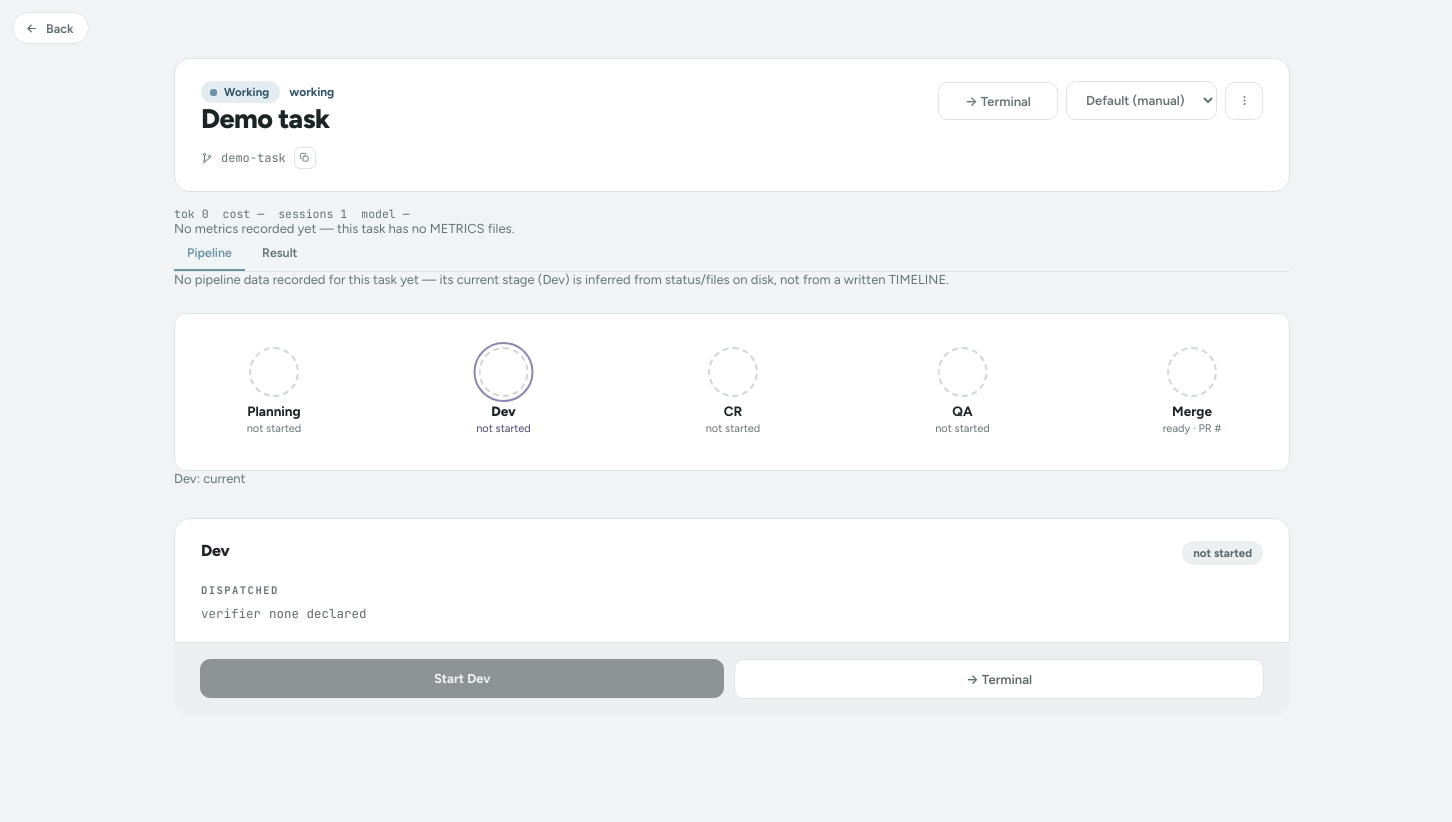
Test: TaskDetail: Result tab › clicking the Result tab switches to it, and Pipeline switches back
Click the tab with test id "task-view-tab-result".
click(280, 253)  # box [249,236,310,271]
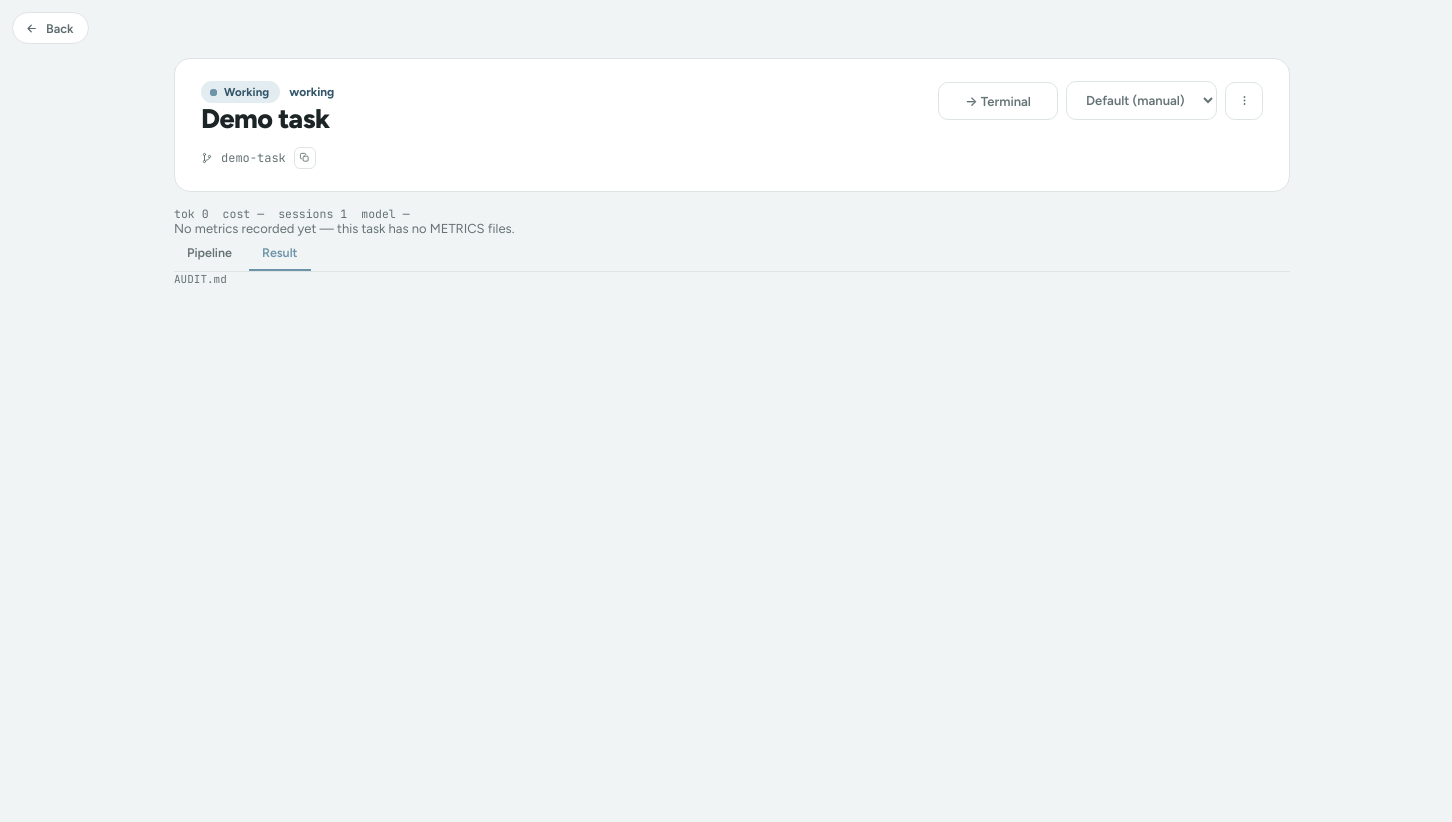
Click the tab with test id "task-view-tab-pipeline".
click(209, 253)  # box [174,236,245,271]
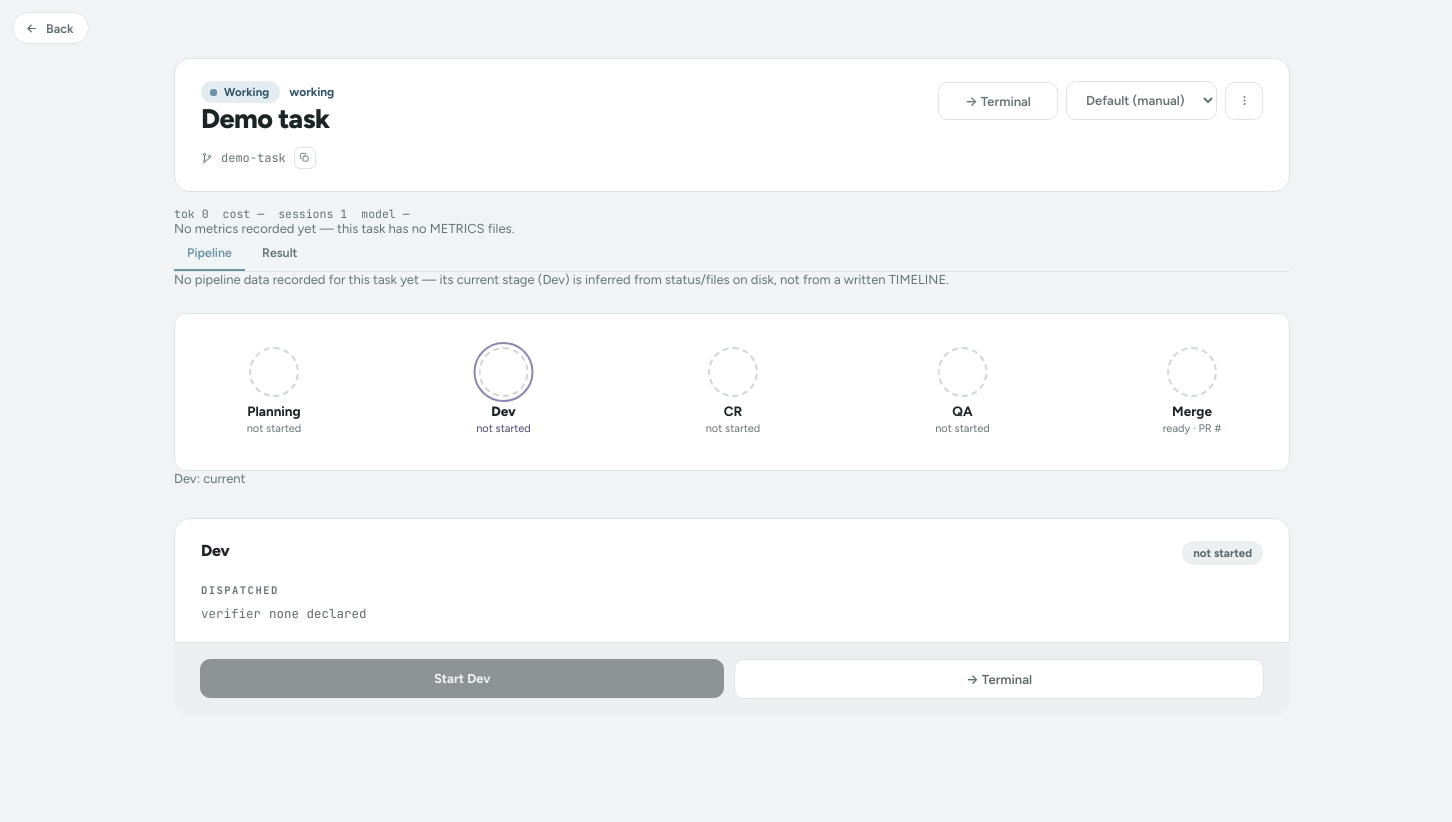
Check: the element with test id "detail-panel-slot" is shown, box [174,500,1290,715]
